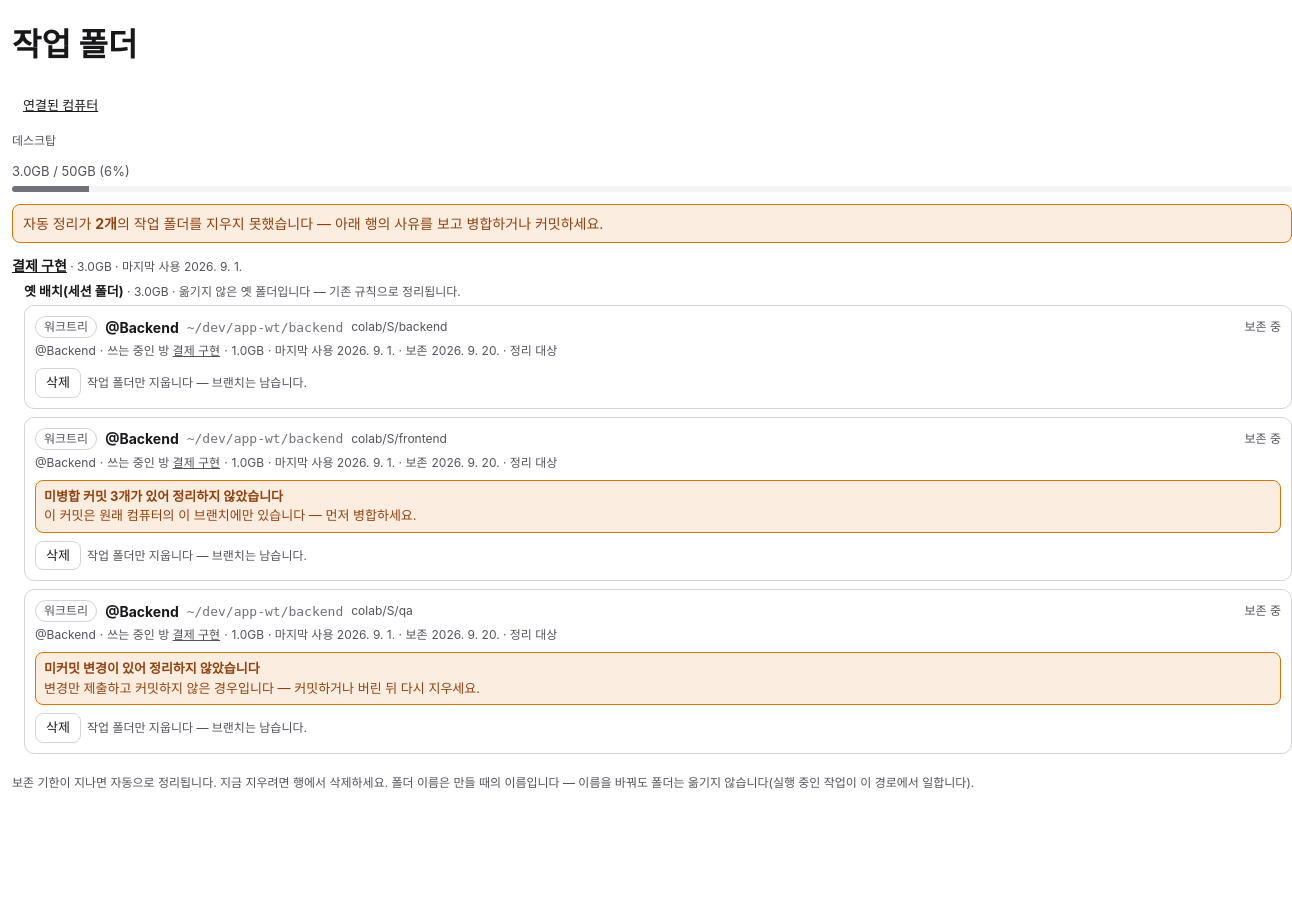
Scenario: 수동 삭제 — 기본 차단 → 사유 → 확인 → force › '그만두기' 는 아무것도 보내지 않는다 — 확인 화면은 되돌릴 수 있어야 한다
Expected: the number of list items with test id "workdir-row" is 3, [24,305,1291,409]; [24,417,1291,581]; [24,589,1291,754]
Click the button with test id "workdir-delete" below "미커밋 변경이 있어 정리하지 않았습니다". click: click(58, 728)
box: [35,713,81,743]
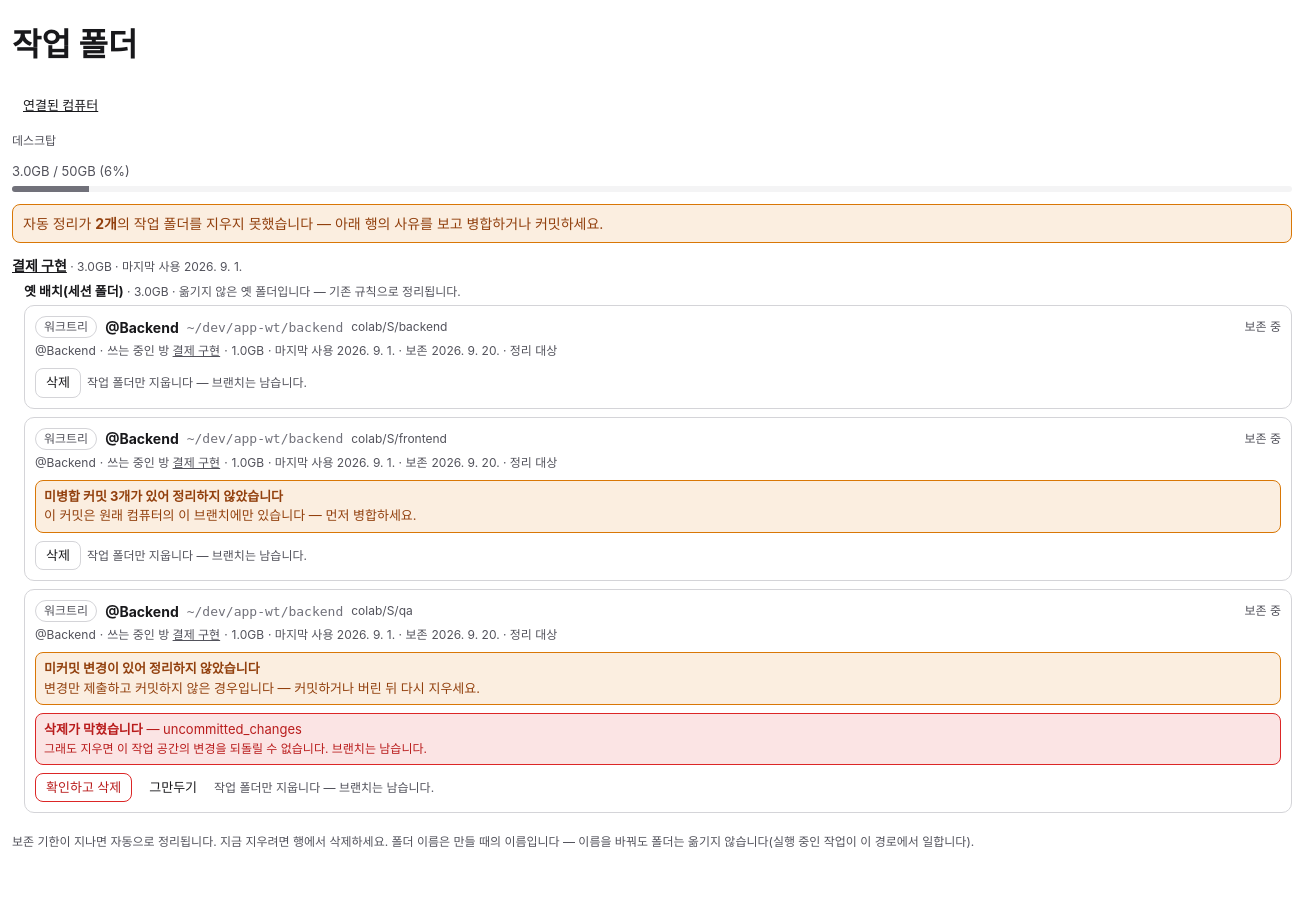
Expected: the message "삭제가 막혔습니다 — uncommitted_changes 그래도 지우면 이 작업 공간의 변경을 되돌릴 수 없습니다. 브랜치는 남습니다." is shown, [35,713,1281,765]
Click the button with test id "workdir-delete-abort". click: click(173, 788)
box: [138,773,208,802]
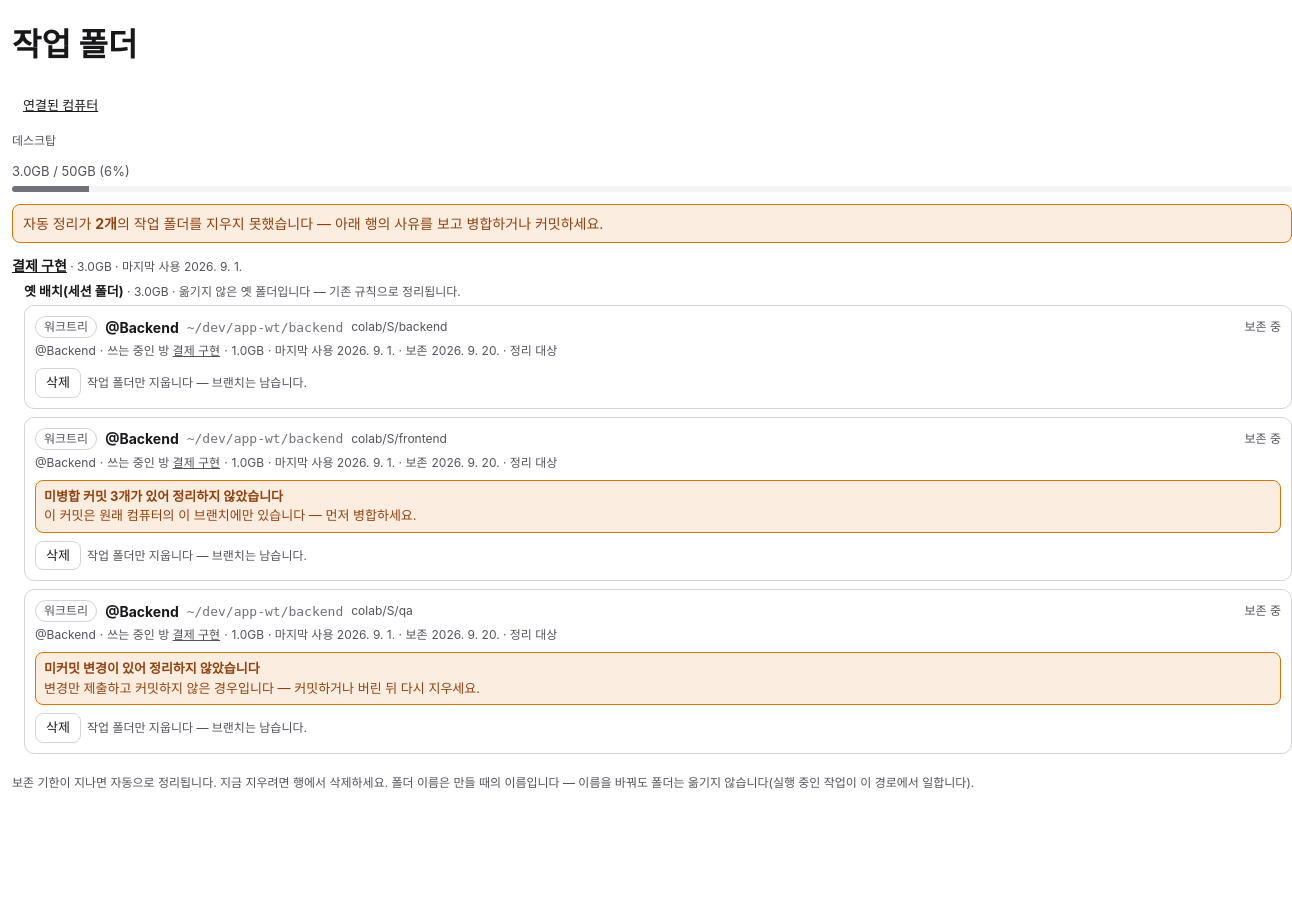
Expected: the message with test id "workdir-refused" is gone
